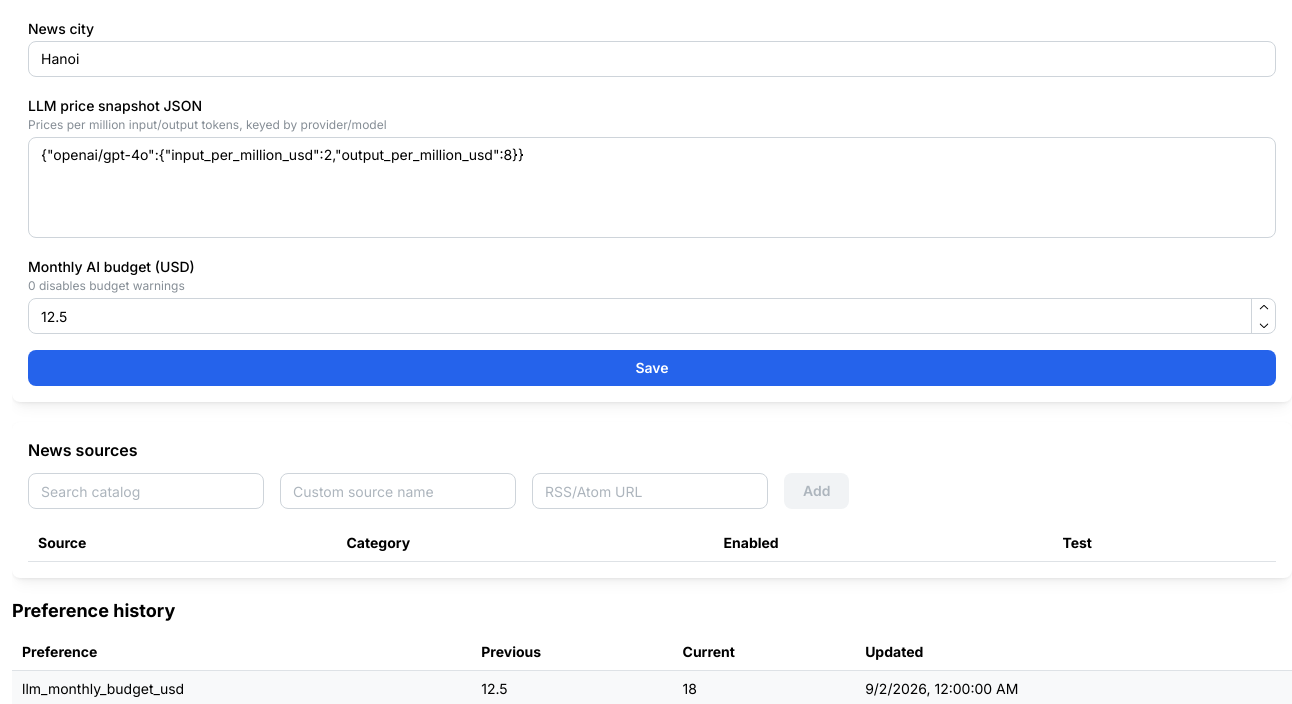
Test: pricing configuration › shows the backend error when a price snapshot save is refused
This screenshot has width=1292, height=704.
(page scrolled)
Expected: the text box labelled "LLM price snapshot JSON" is shown, [28,137,1276,238]
What coordinates should you click on to do the following:
click the button "Save"
I would click on:
 (652, 368)
Its box is [28,350,1276,386].
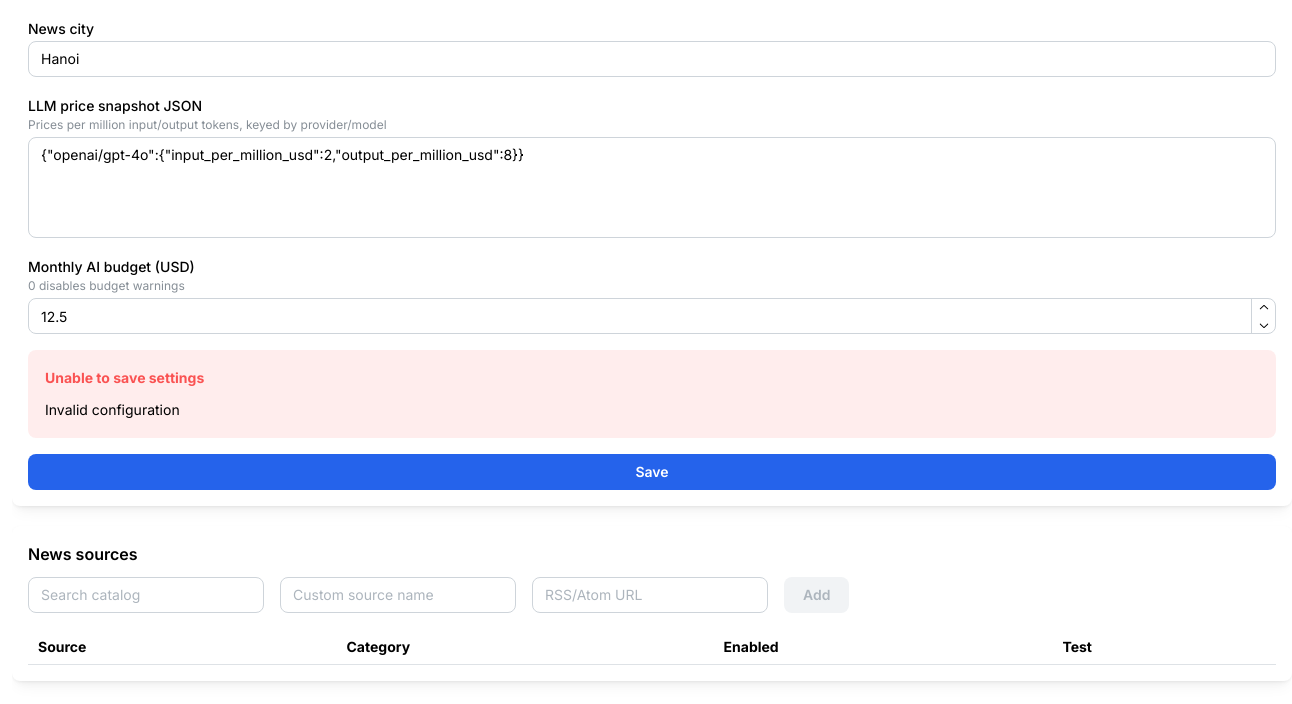
Result: the text "Invalid configuration" is shown at [45,401,180,418]
